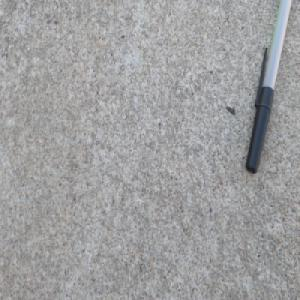Pen: (243, 0, 293, 180)
